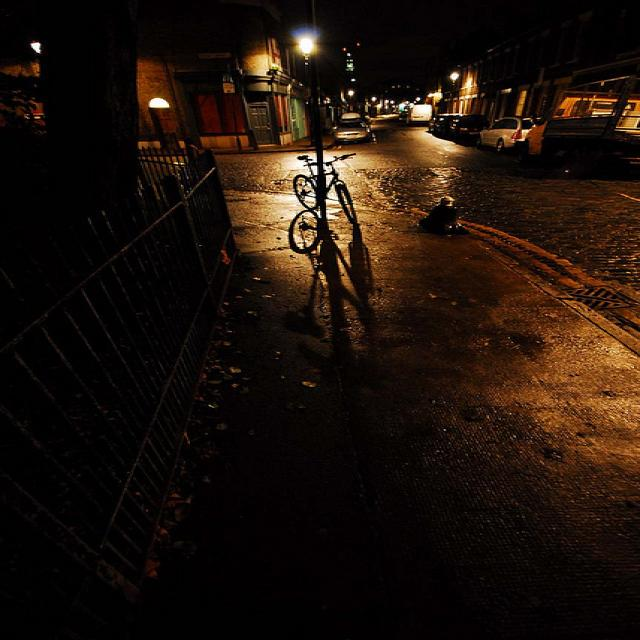Bicycle: (267, 137, 386, 222)
car: (505, 97, 640, 172), (399, 99, 535, 137)
